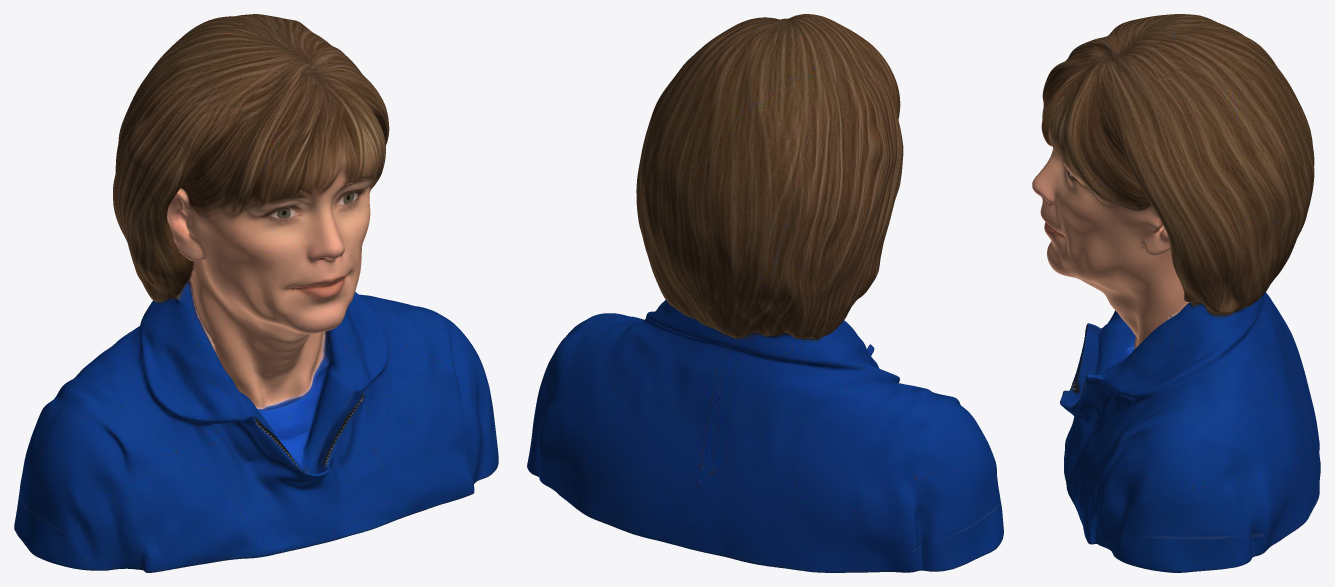
File: Meshy_AI_Steady_Gaze_under_2MB.glb
The picture shows the model from 3 angles, left to right: view 1: azimuth 30°, elevation 25°; view 2: azimuth 150°, elevation 25°; view 3: azimuth 270°, elevation 25°; orthographic projection. The views are drawn at different scales.
Bounding box in the file's own units: 1.9 × 1.89 × 1.12.
Materials: 1 (1 with a texture image).
